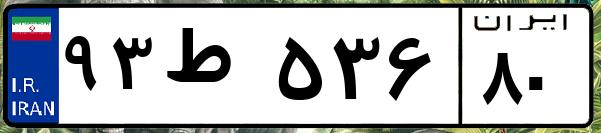0: (525, 38, 570, 115)
3: (330, 28, 385, 110), (110, 28, 158, 98)
5: (270, 28, 330, 110)
6: (385, 28, 445, 110)
8: (475, 38, 525, 113)
9: (57, 26, 110, 100)
ط: (158, 20, 270, 120)
